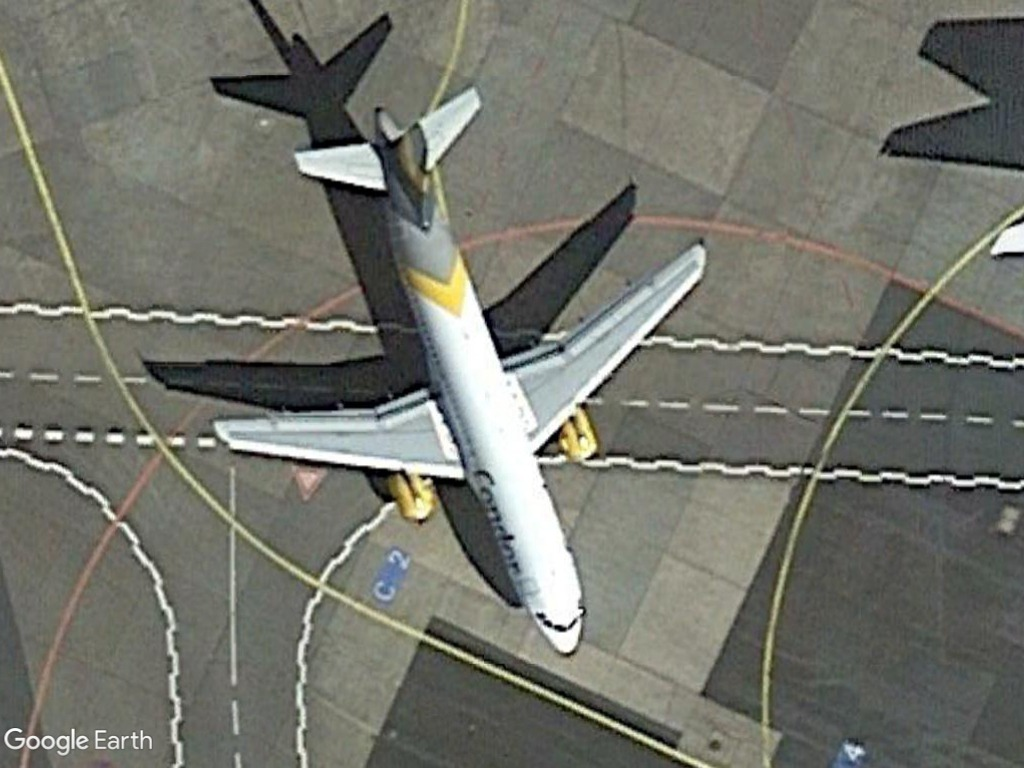airliner: (214, 86, 713, 667)
